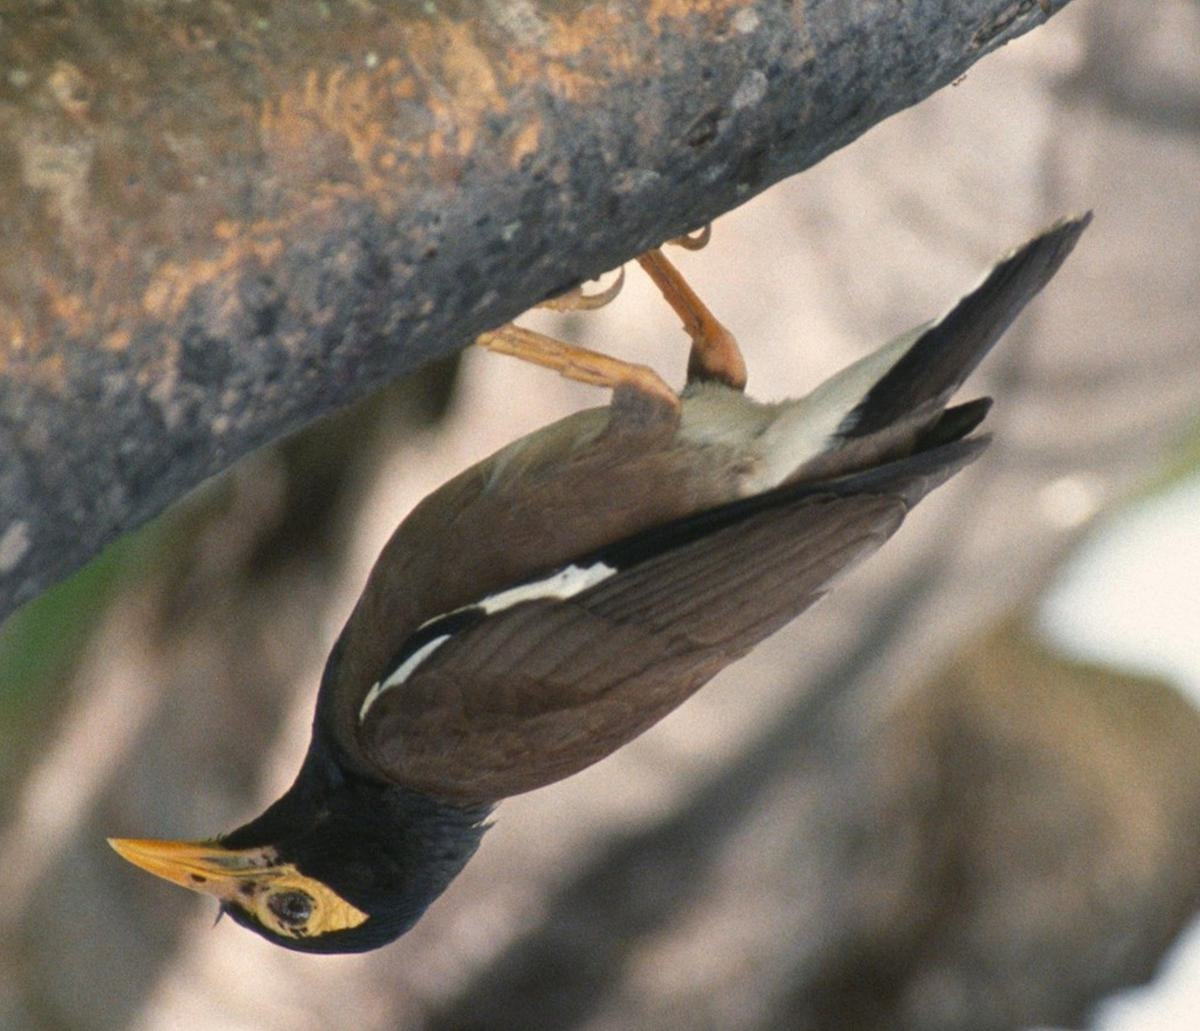myna: (82, 177, 1023, 971)
